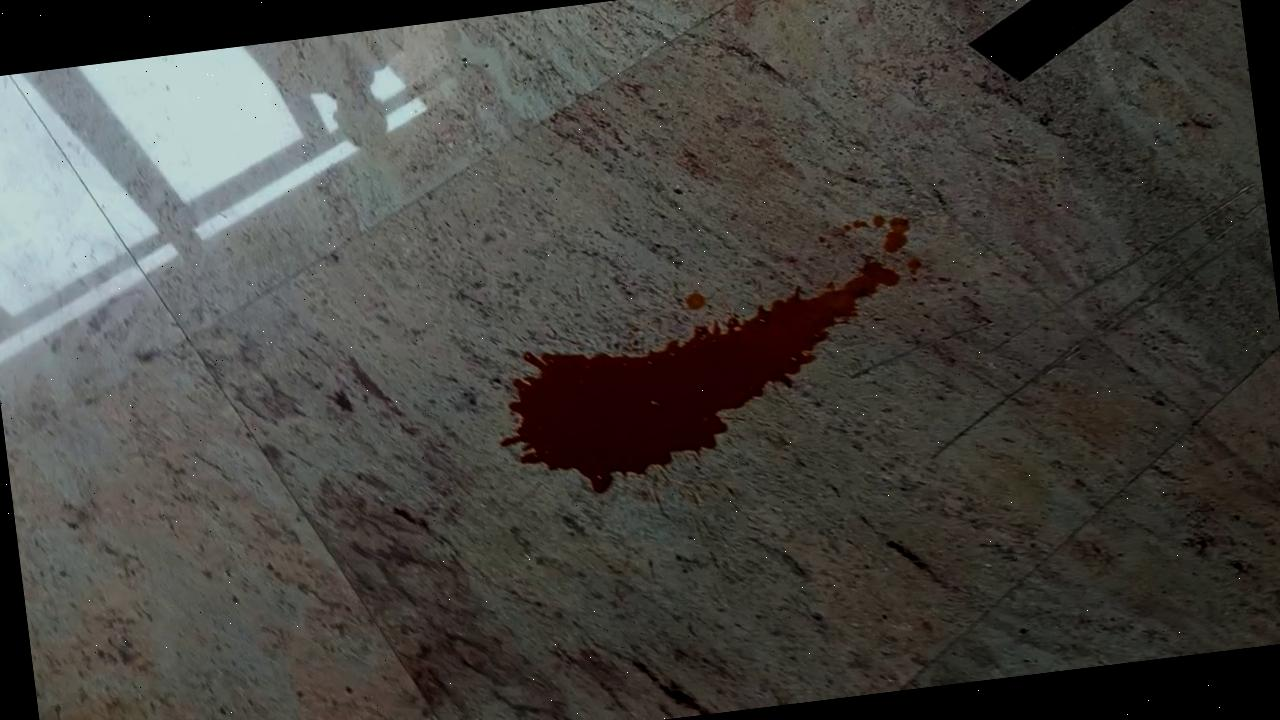dirty_floor: (478, 212, 938, 504)
